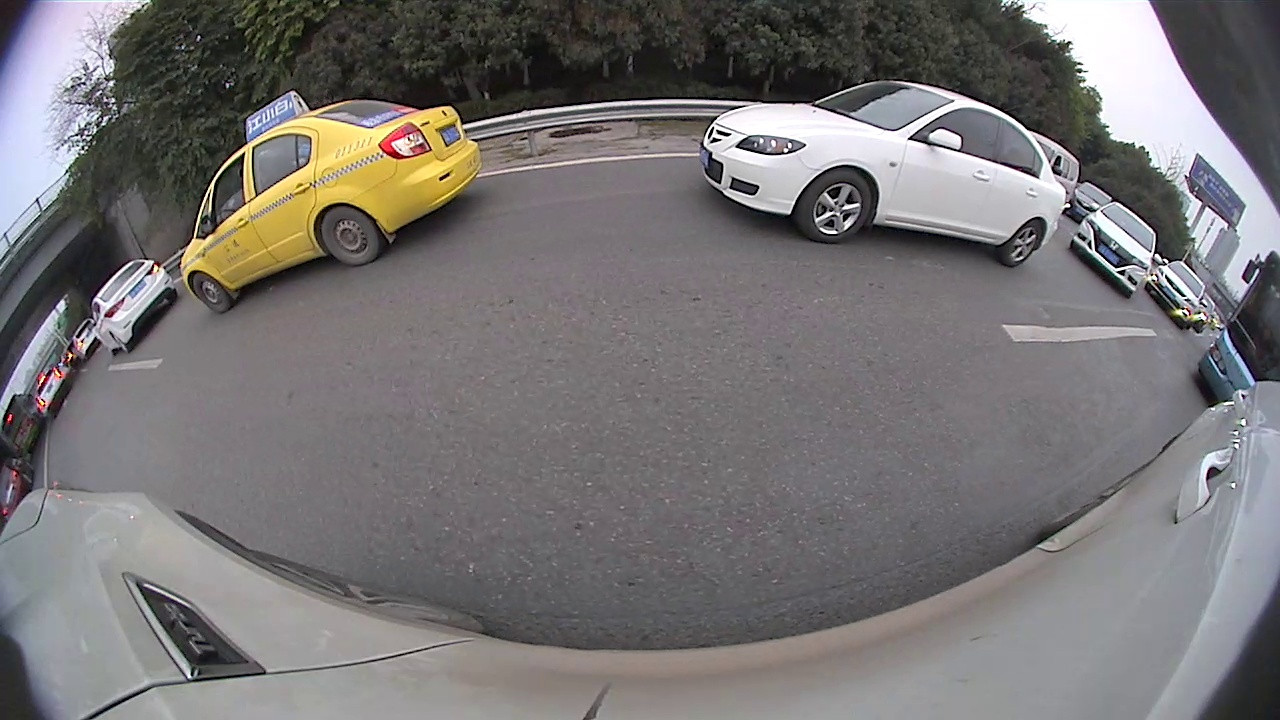bus: (1196, 247, 1279, 413)
car: (694, 79, 1074, 271), (178, 87, 483, 315), (88, 257, 179, 361), (1069, 200, 1159, 299), (1145, 257, 1209, 329), (1026, 130, 1082, 208), (23, 356, 77, 422)
front: (794, 166, 876, 248), (189, 270, 235, 316)
rear: (319, 203, 383, 268), (998, 217, 1045, 271), (110, 331, 132, 356)
